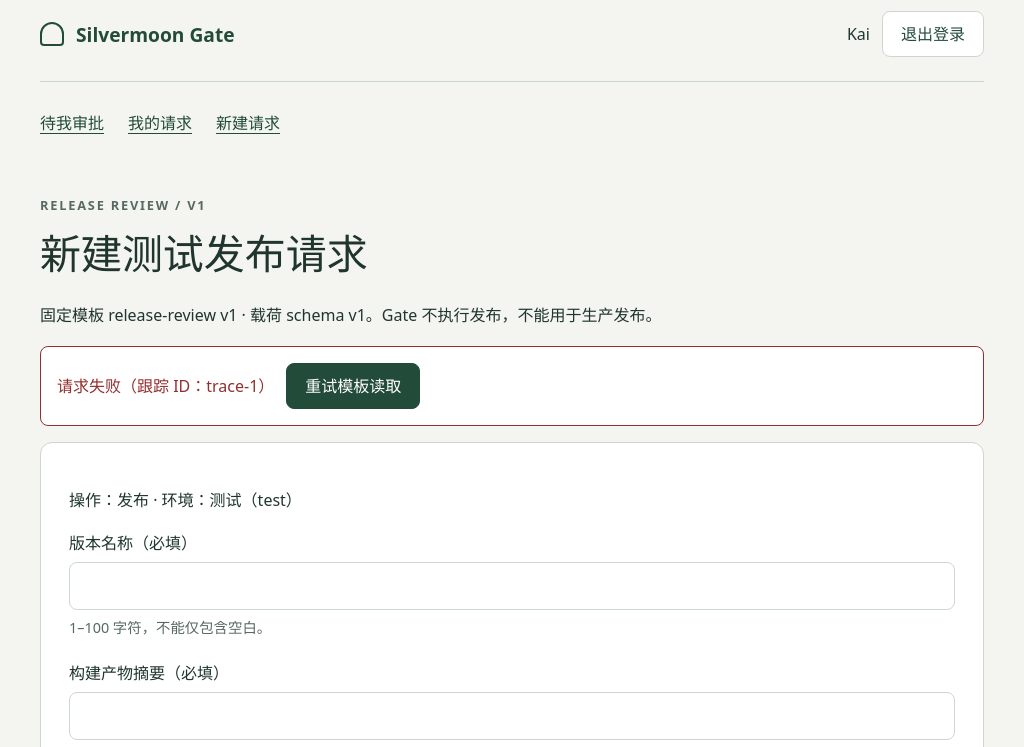
Test: immutable creation › shows failed template lookup and permits manual retry
This screenshot has width=1024, height=747.
Click the button "重试模板读取" at (353, 386), box [286, 363, 420, 409]
(page scrolled)
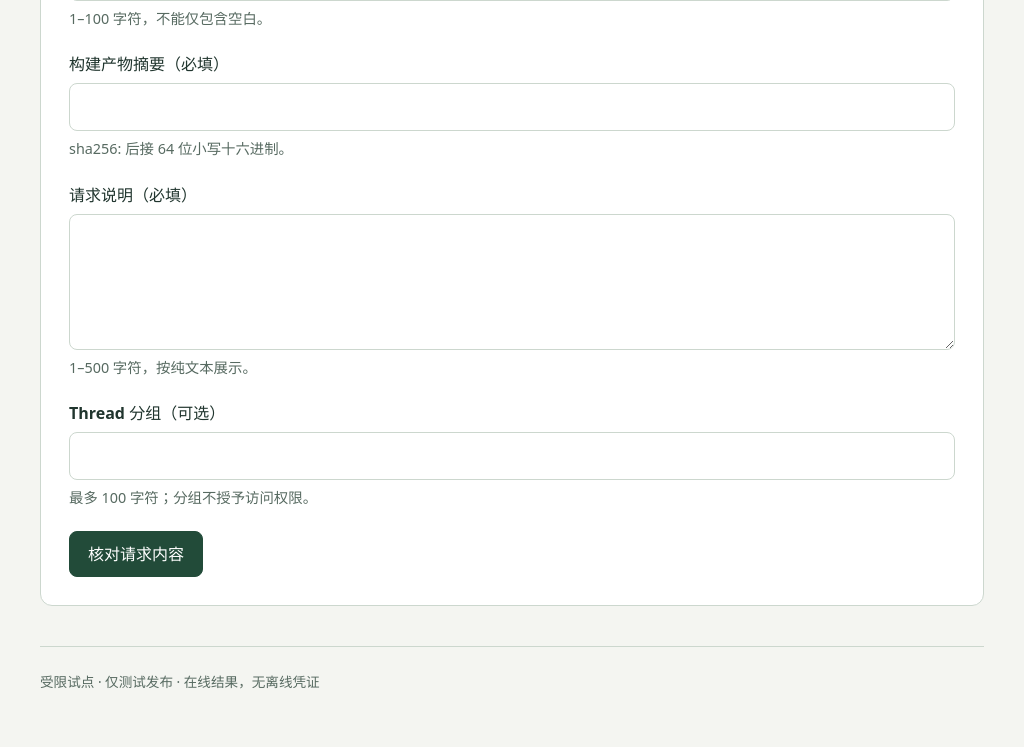
Expected: the button "核对请求内容" is enabled, [69, 531, 203, 577]
